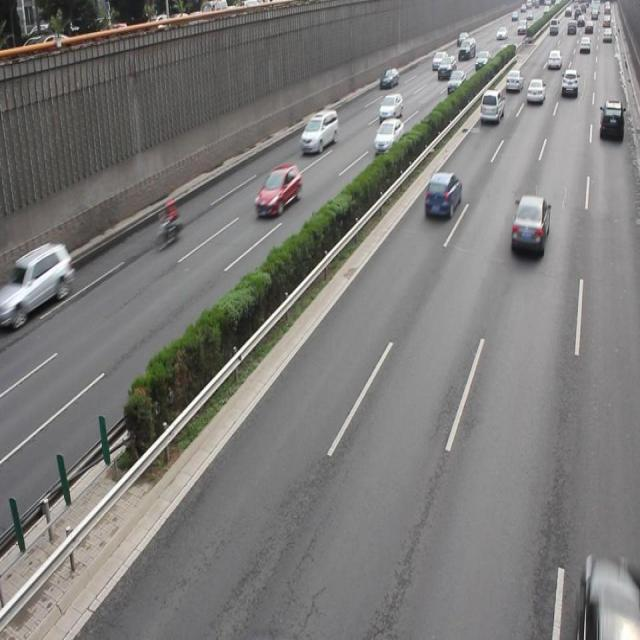car: (10, 243, 74, 318), (510, 194, 548, 256), (255, 163, 300, 215), (423, 170, 461, 220), (300, 109, 338, 154), (373, 118, 404, 156), (598, 99, 622, 142), (379, 91, 402, 121)
truck: (478, 88, 503, 124)
